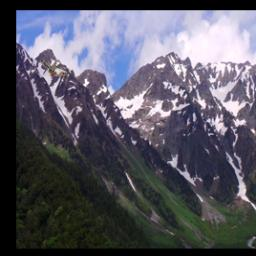Cuckoo: (40, 58, 68, 76)
